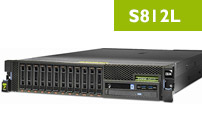ibm-server: (1, 45, 200, 105)
